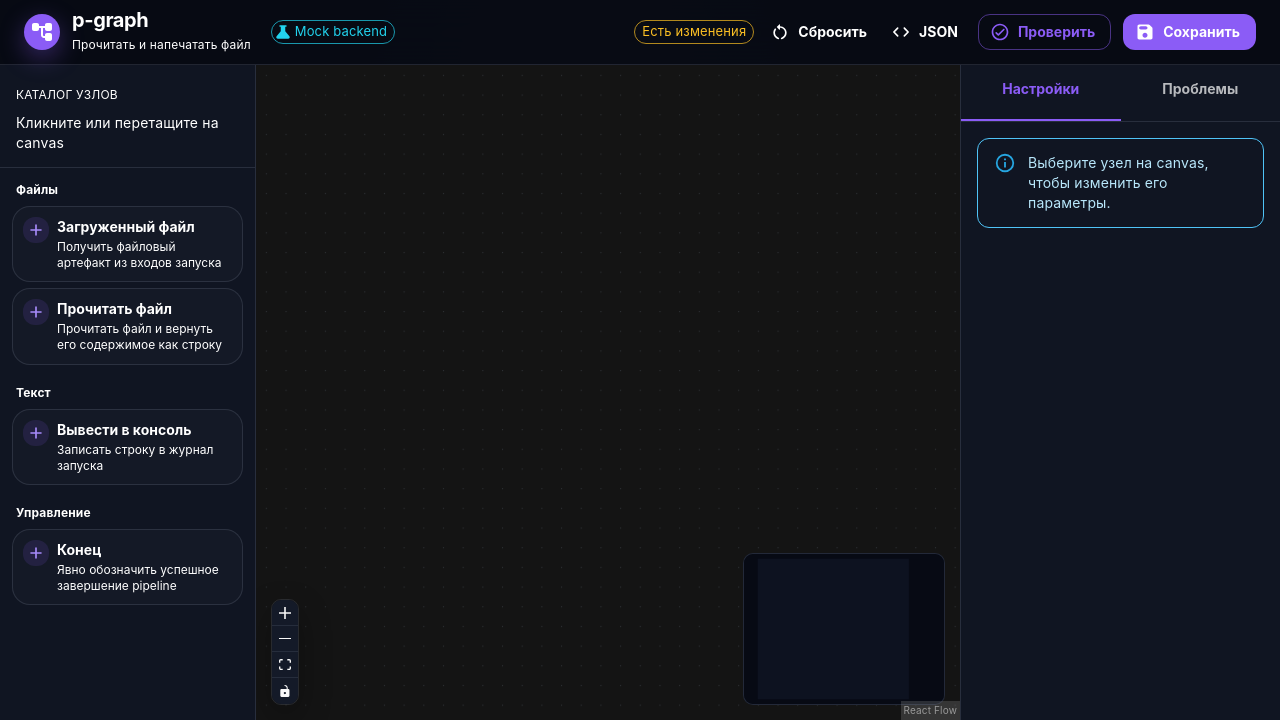
Scenario: App › keeps the restored draft clean after reset
The width and height of the screenshot is (1280, 720).
Expected: the text "Mock backend" is shown, [288,22,394,42]
What coordinates should you click on to do the following:
click the button with aria-label "Вернуть исходный демонстрационный граф"
I would click on:
 (821, 32)
Its box is [766,14,875,50].
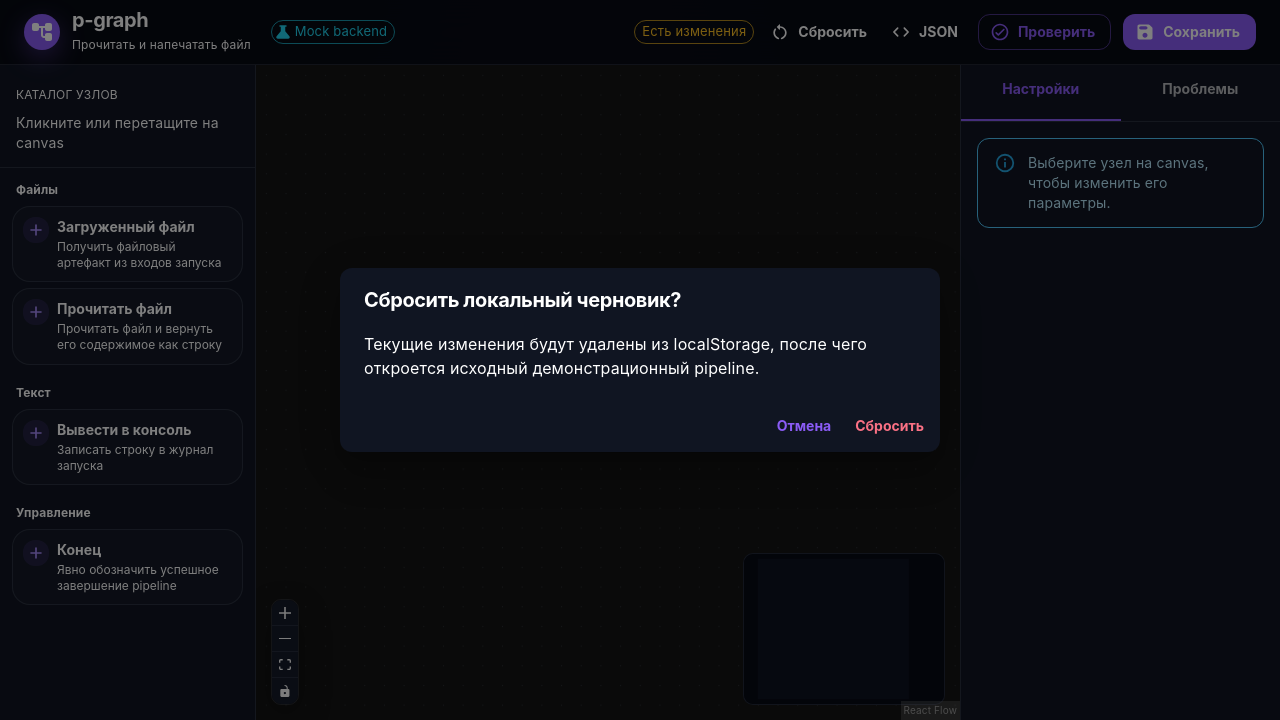
What coordinates should you click on to do the following:
click the button "Сбросить"
I would click on:
 (890, 426)
Its box is [847,408,932,444].
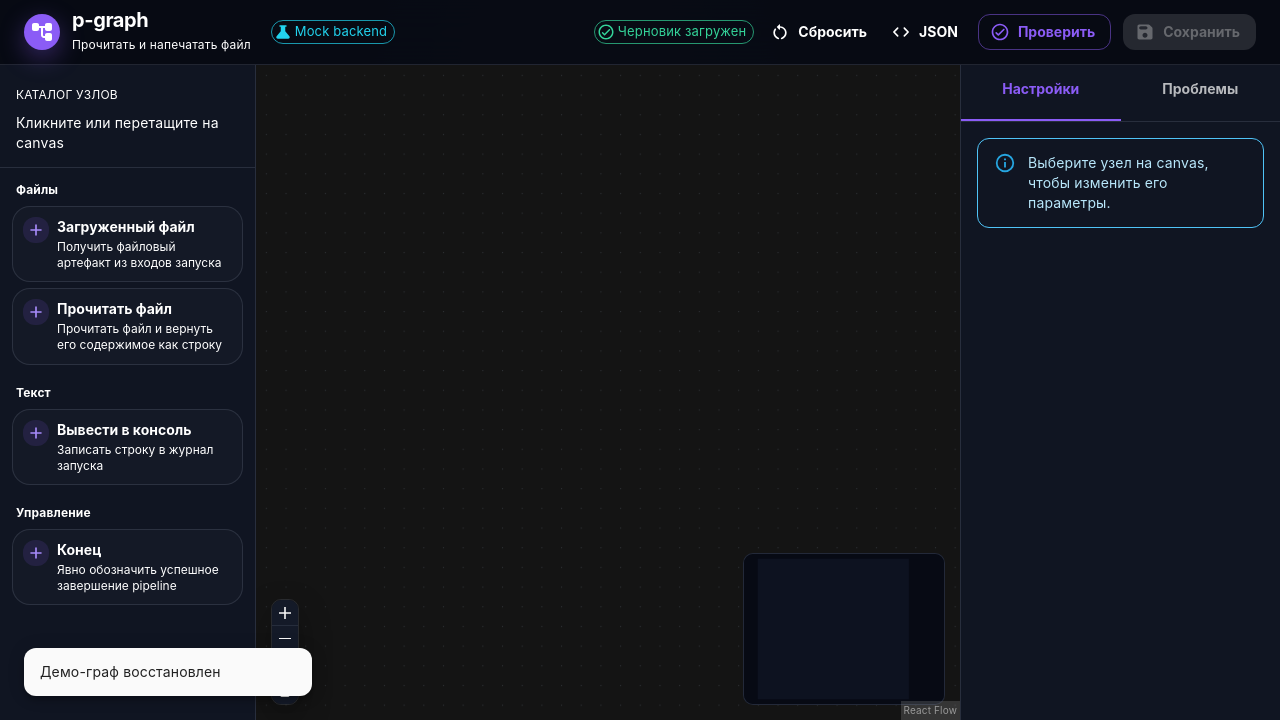
Result: the text "Демо-граф восстановлен" is shown at [40,663,221,680]
